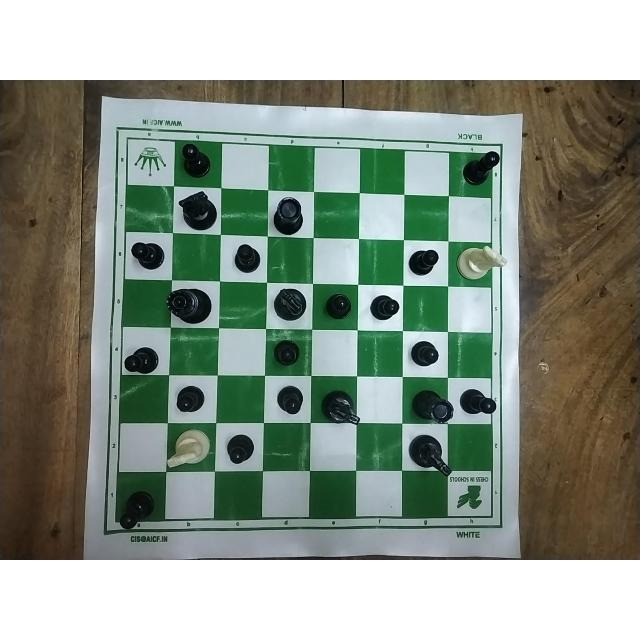black-knight: (406, 430, 454, 477), (175, 185, 219, 233), (320, 387, 364, 432), (270, 285, 307, 323)
black-pawn: (457, 149, 502, 191), (119, 487, 155, 533), (121, 342, 163, 375), (459, 386, 502, 418), (270, 334, 308, 368), (129, 239, 166, 273), (181, 139, 213, 178), (231, 238, 263, 276), (174, 382, 209, 416), (368, 289, 404, 321), (408, 336, 444, 367), (406, 244, 442, 275), (223, 431, 256, 462), (324, 288, 354, 322), (273, 385, 303, 417)
black-queen: (164, 282, 212, 326)
black-rook: (407, 381, 457, 425), (270, 189, 310, 239)
white-knight: (162, 430, 212, 471), (454, 244, 505, 281)
